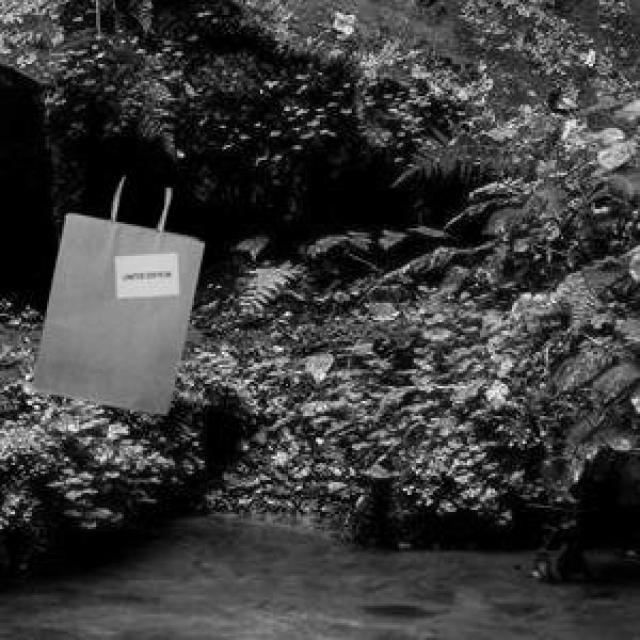paper: (28, 179, 201, 412)
